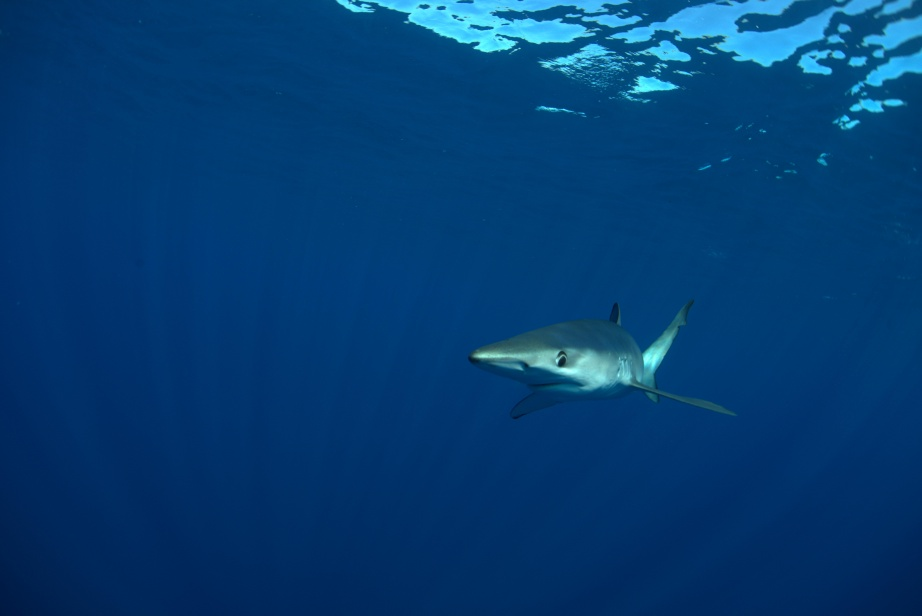Azul: (434, 268, 779, 442)
